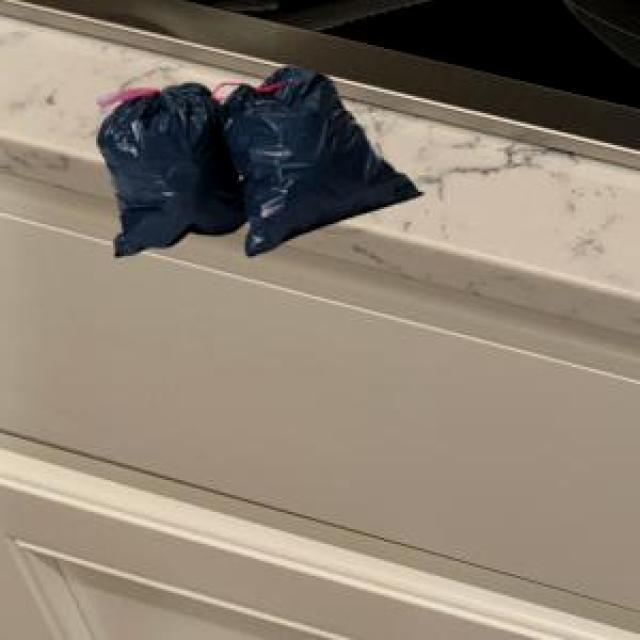Trashbag: (228, 50, 425, 265), (85, 68, 246, 257)
